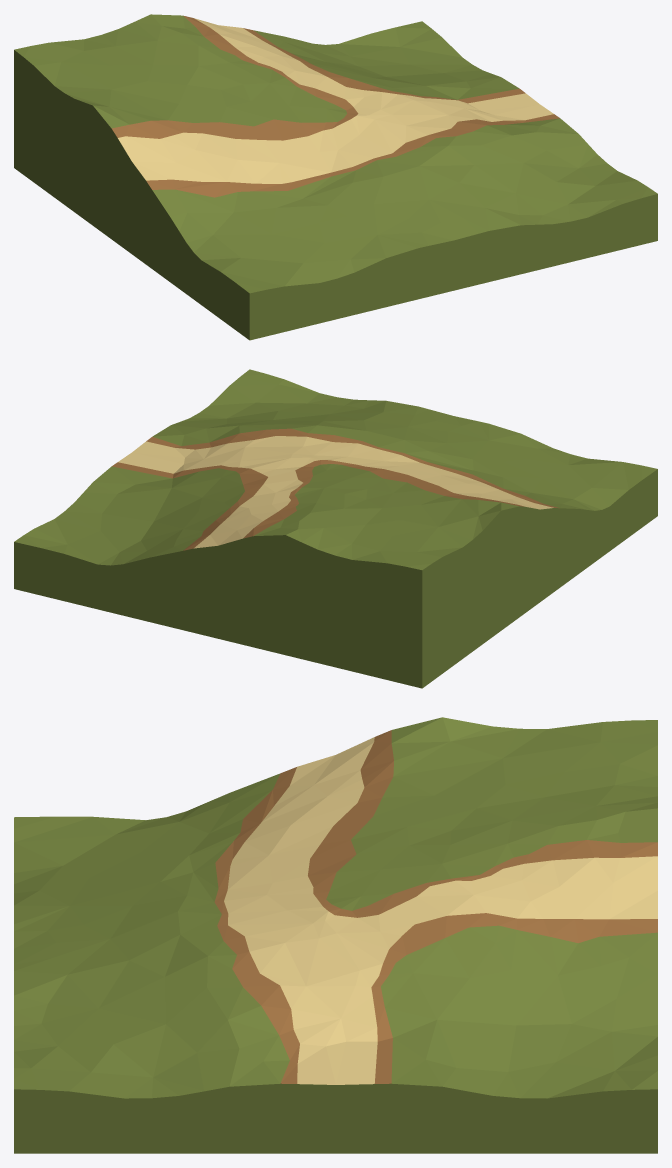
File: Terrian_Road_Int_HillCorner-04.fbx
3 views of the same model, one above another, from view 1: azimuth 30°, elevation 25°; view 2: azimuth 150°, elevation 25°; view 3: azimuth 270°, elevation 25° (orthographic). The views are drawn at different scales.
Visible parts, largest first — view 1: Terrian_Road_Int_HillCorner-04; view 2: Terrian_Road_Int_HillCorner-04; view 3: Terrian_Road_Int_HillCorner-04.
Part boxes in pixels (x1,y1,x2,y2): Terrian_Road_Int_HillCorner-04: (14, 14, 657, 340); Terrian_Road_Int_HillCorner-04: (14, 369, 657, 688); Terrian_Road_Int_HillCorner-04: (14, 717, 657, 1153).
Bounding box in the file's own units: 3600 × 1013 × 3600.
Materials: 1 (1 with a texture image).
